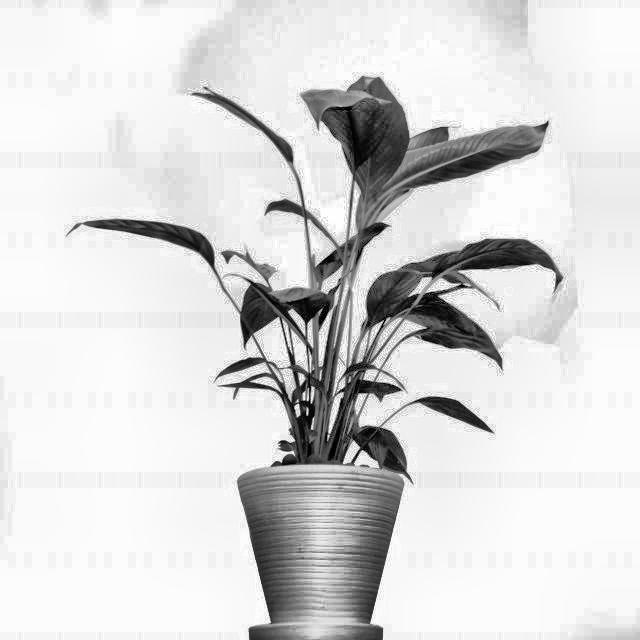plants: (82, 40, 561, 482)
